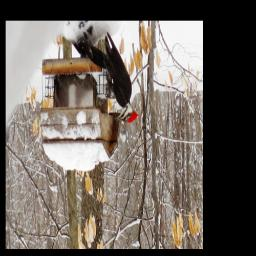Woodpecker: (78, 31, 140, 124)
